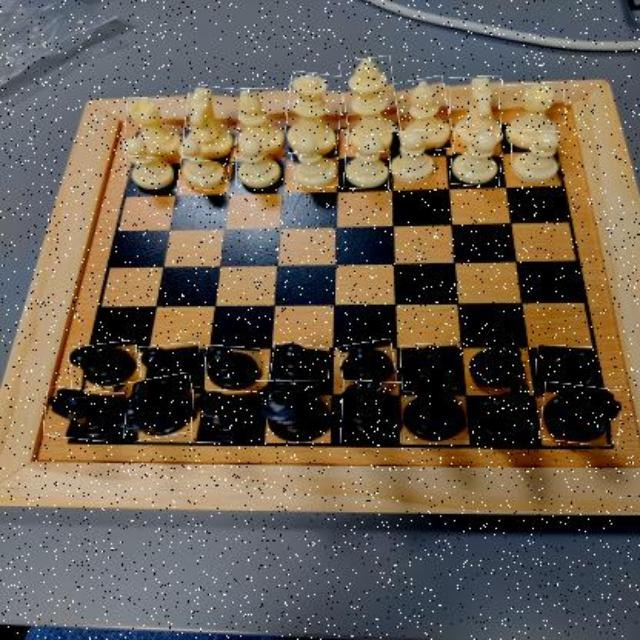black-bishop: (192, 391, 262, 443), (403, 391, 467, 443)
black-king: (257, 380, 333, 443)
black-knight: (117, 376, 197, 440), (476, 383, 540, 441)
black-pawn: (70, 342, 140, 389), (536, 345, 599, 392), (467, 342, 528, 389), (139, 344, 200, 390), (401, 345, 459, 391), (340, 340, 396, 387), (206, 345, 262, 391), (272, 343, 330, 387)
black-queen: (341, 381, 402, 445)
black-rook: (541, 384, 621, 445), (44, 389, 127, 441)
white-bishop: (397, 77, 452, 152), (237, 88, 287, 157)
white-king: (342, 57, 398, 153)
white-knight: (184, 86, 239, 162), (451, 77, 503, 149)
white-pawn: (451, 131, 503, 187), (179, 139, 229, 191), (512, 132, 562, 184), (125, 140, 175, 190), (291, 136, 338, 188), (344, 136, 390, 189), (237, 139, 283, 191), (391, 132, 437, 184)
white-queen: (286, 73, 342, 156)
white-rook: (501, 83, 567, 150), (124, 98, 185, 159)
